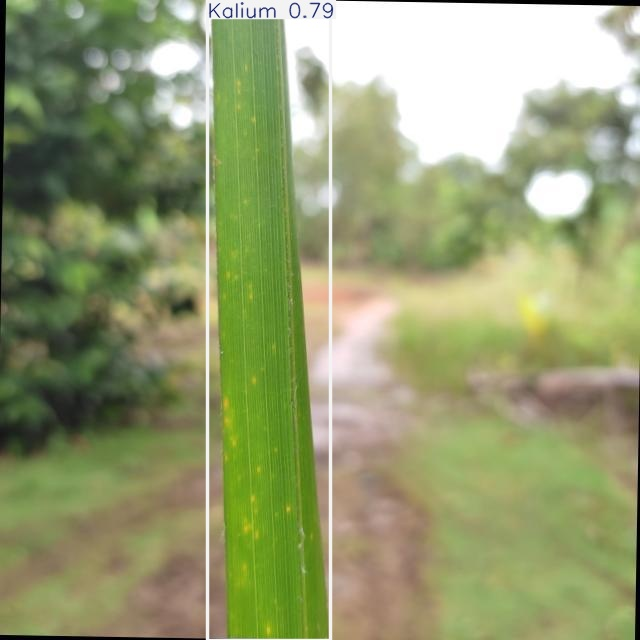Kalium: (208, 0, 331, 640)
